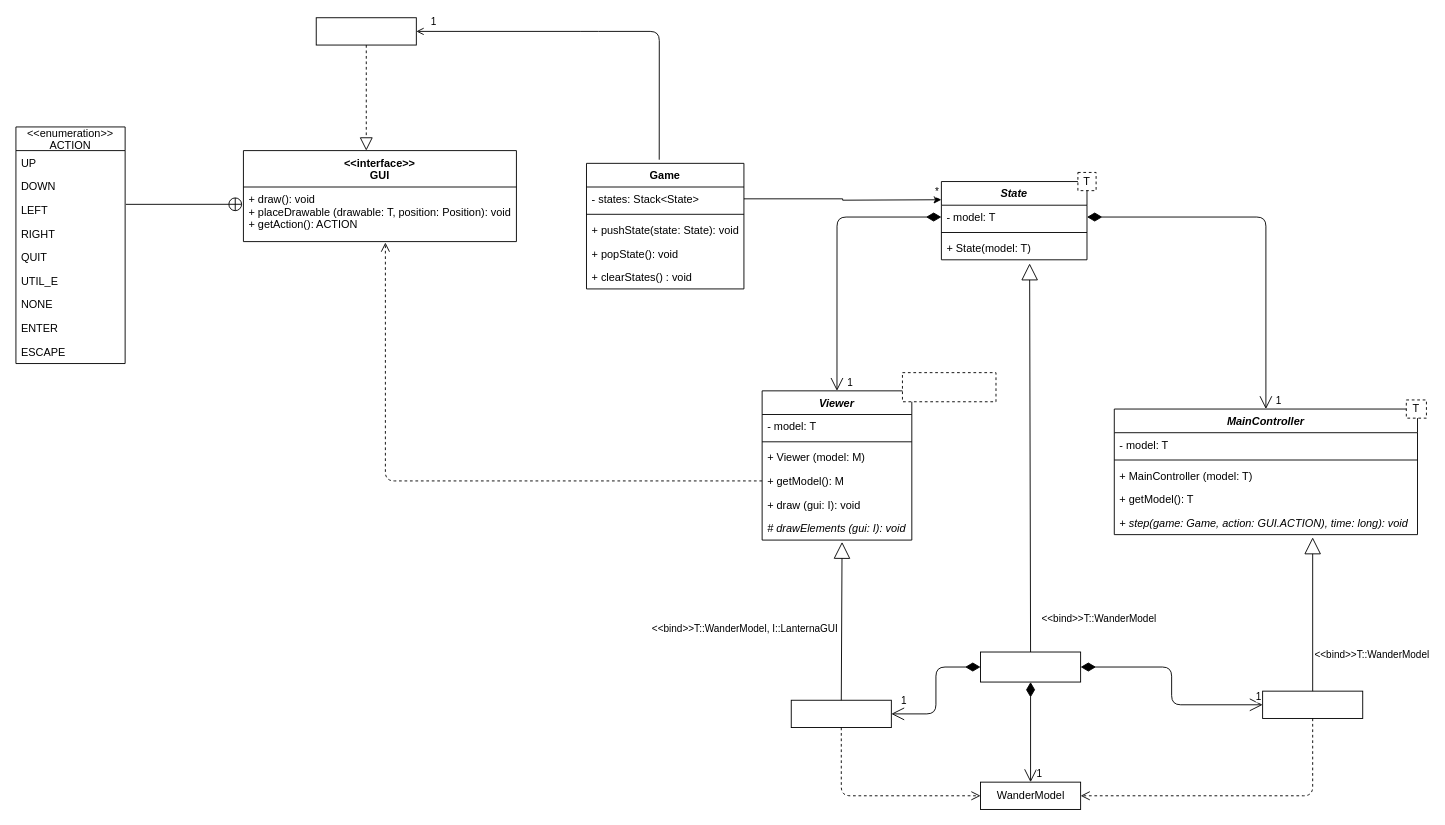
The diagram is 1445 pixels wide and 825 high, and some of its shapes have lost their labels. Each missing label, with the centre of its shape:
"LanternaGUI" belongs at point (365, 31).
"M, I extends GUI" belongs at point (949, 387).
"WanderController" belongs at point (1312, 704).
"WanderState" belongs at point (1030, 666).
"WanderViewer" belongs at point (840, 713).
